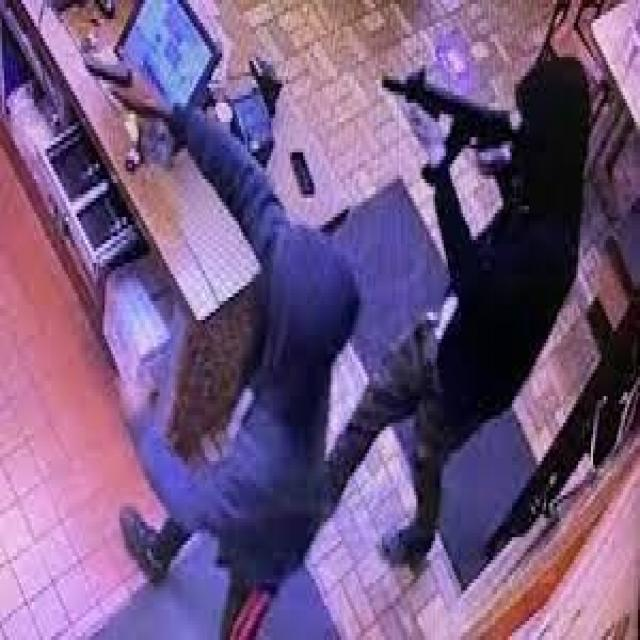gun: (383, 70, 517, 184), (82, 59, 132, 113)
